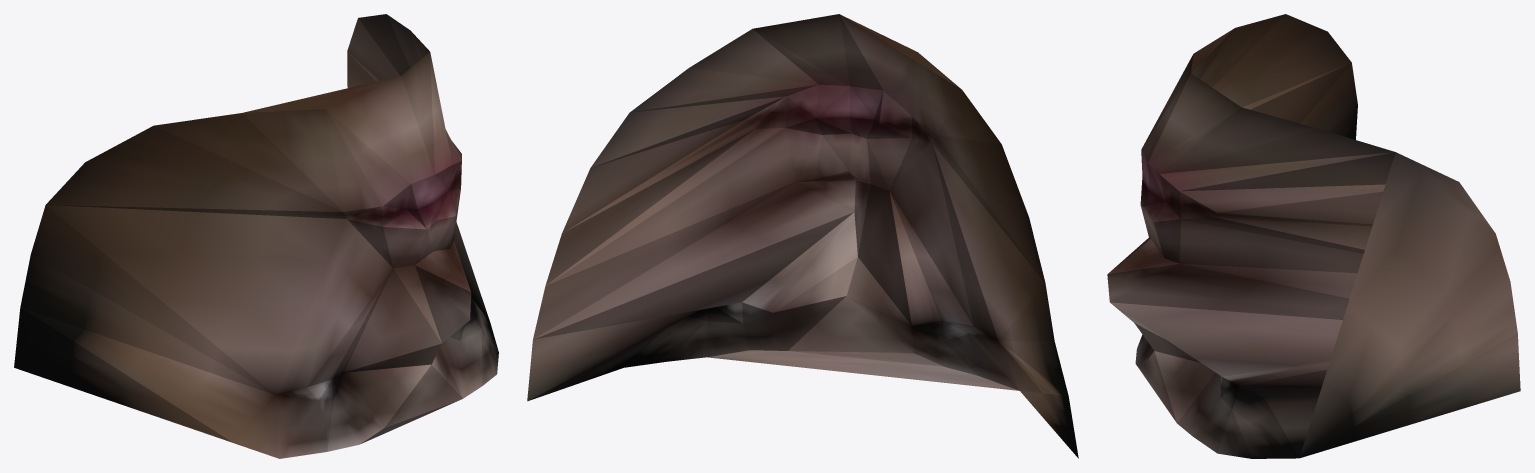
Rendered from real_54513.obj.
3 renders of one model, left to right at view 1: azimuth 30°, elevation 25°; view 2: azimuth 150°, elevation 25°; view 3: azimuth 270°, elevation 25°, orthographic. The views are drawn at different scales.
Bounding box in the file's own units: 115 × 82 × 93.58.
